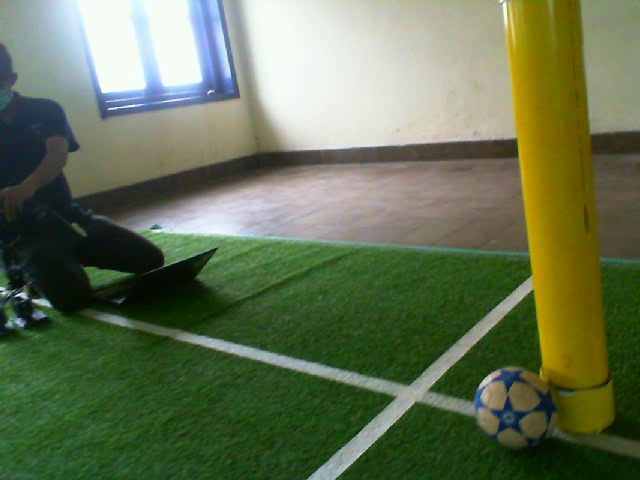ball: (473, 363, 562, 452)
